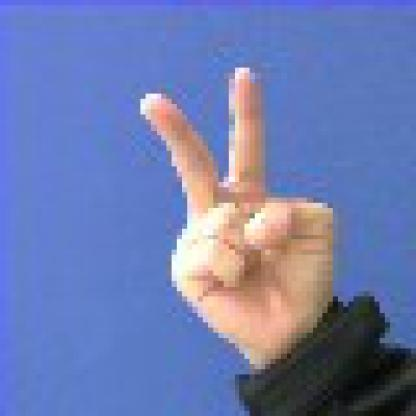two: (135, 59, 347, 369)
